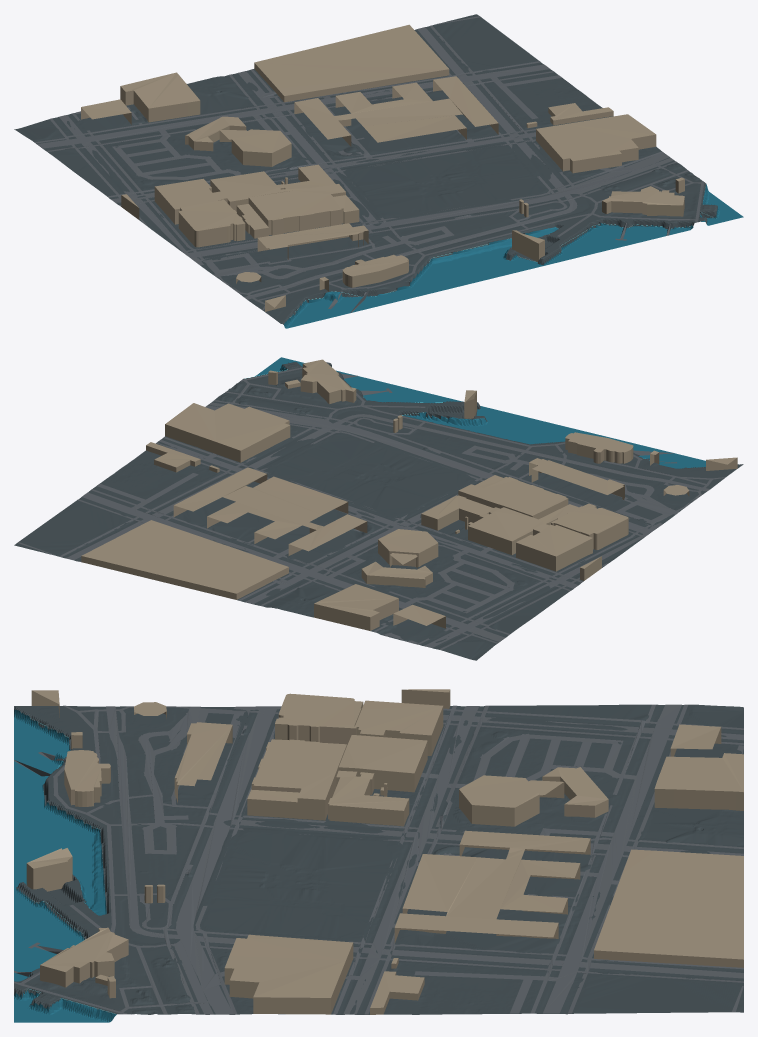
File: epsg26910-1436-10897.lod0.glb
3 views of the same model, one above another, from view 1: azimuth 30°, elevation 25°; view 2: azimuth 150°, elevation 25°; view 3: azimuth 270°, elevation 25° (orthographic). The views are drawn at different scales.
Parts seen in each view (by area): view 1: epsg26910-1436-10897-lod0; view 2: epsg26910-1436-10897-lod0; view 3: epsg26910-1436-10897-lod0.
Part boxes in pixels (bbox=[...]): epsg26910-1436-10897-lod0: bbox=[14, 14, 743, 328]; epsg26910-1436-10897-lod0: bbox=[14, 357, 743, 660]; epsg26910-1436-10897-lod0: bbox=[14, 689, 743, 1022].
Bounding box in the file's own units: 384 × 19.42 × 384.
